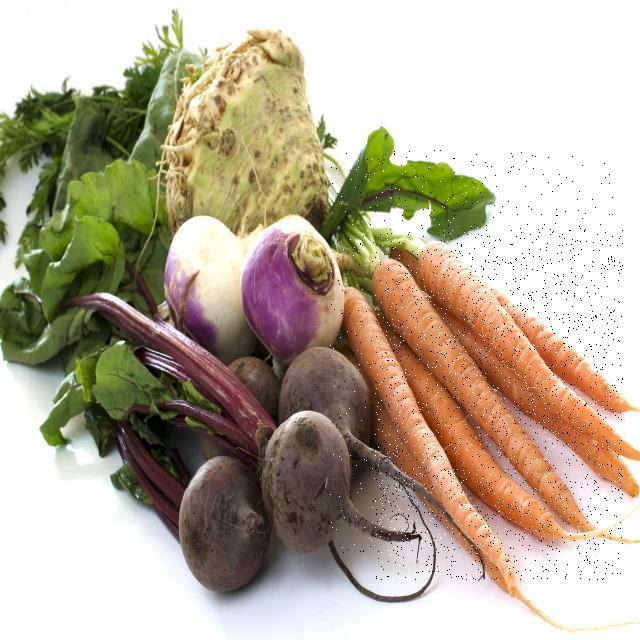carrots: (330, 148, 614, 559), (375, 228, 623, 580)
